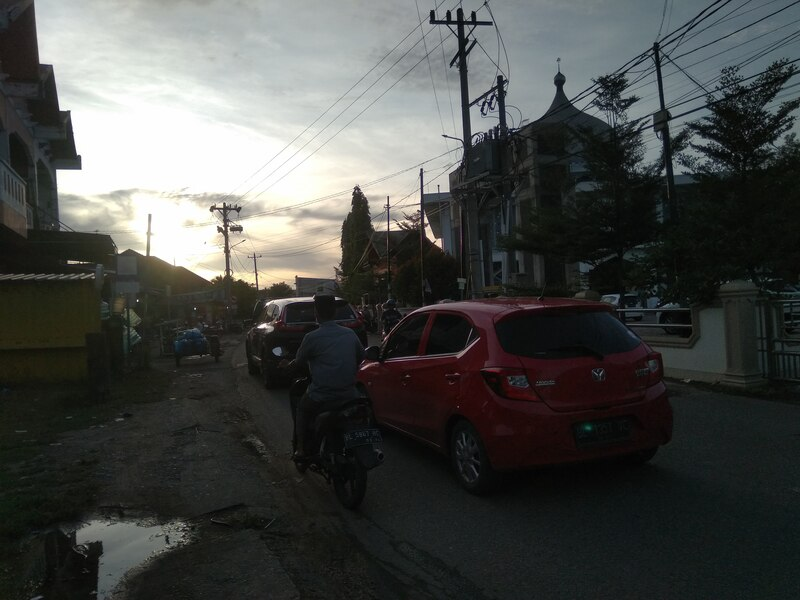becak barang: (169, 318, 225, 369)
car: (356, 290, 679, 501), (243, 291, 378, 394)
motorcycle: (270, 343, 394, 514)
